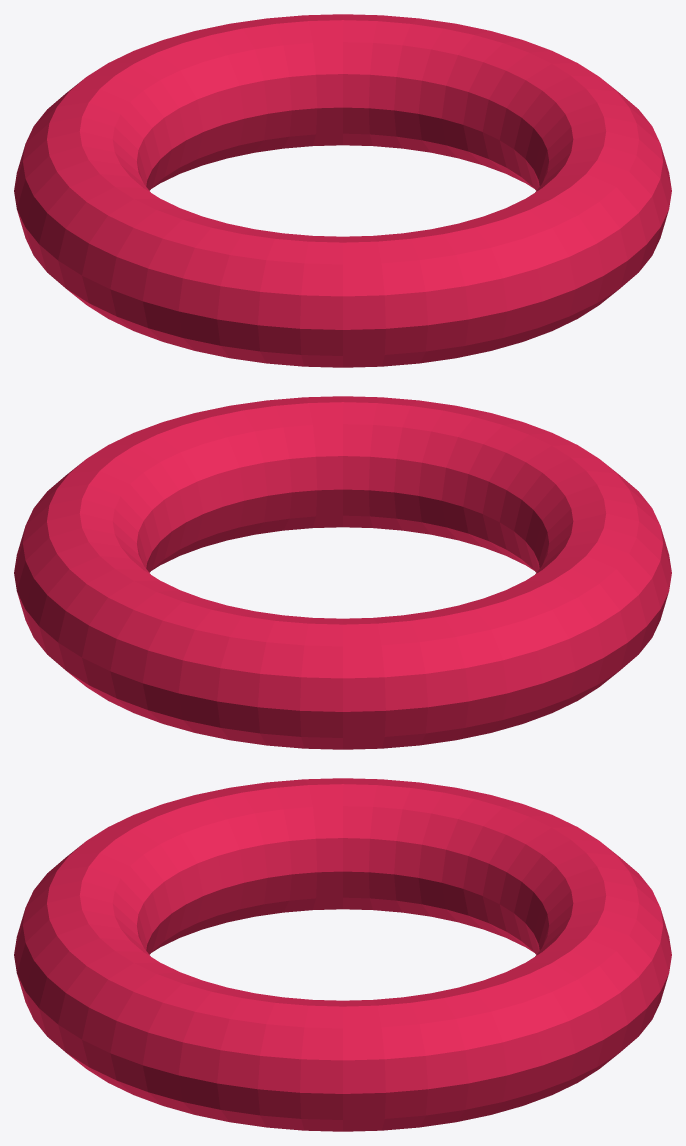
Rendered from davidCubeA3.gltf.
3 renders of one model, top to bottom at view 1: azimuth 30°, elevation 25°; view 2: azimuth 150°, elevation 25°; view 3: azimuth 270°, elevation 25°, orthographic.
Parts seen in each view (by area): view 1: davidCubeA3; view 2: davidCubeA3; view 3: davidCubeA3.
Part boxes in pixels (bbox=[...]): davidCubeA3: bbox=[14, 14, 671, 367]; davidCubeA3: bbox=[14, 396, 671, 749]; davidCubeA3: bbox=[14, 778, 671, 1131].
Bounding box in the file's own units: 1.23 × 0.2455 × 1.23.
